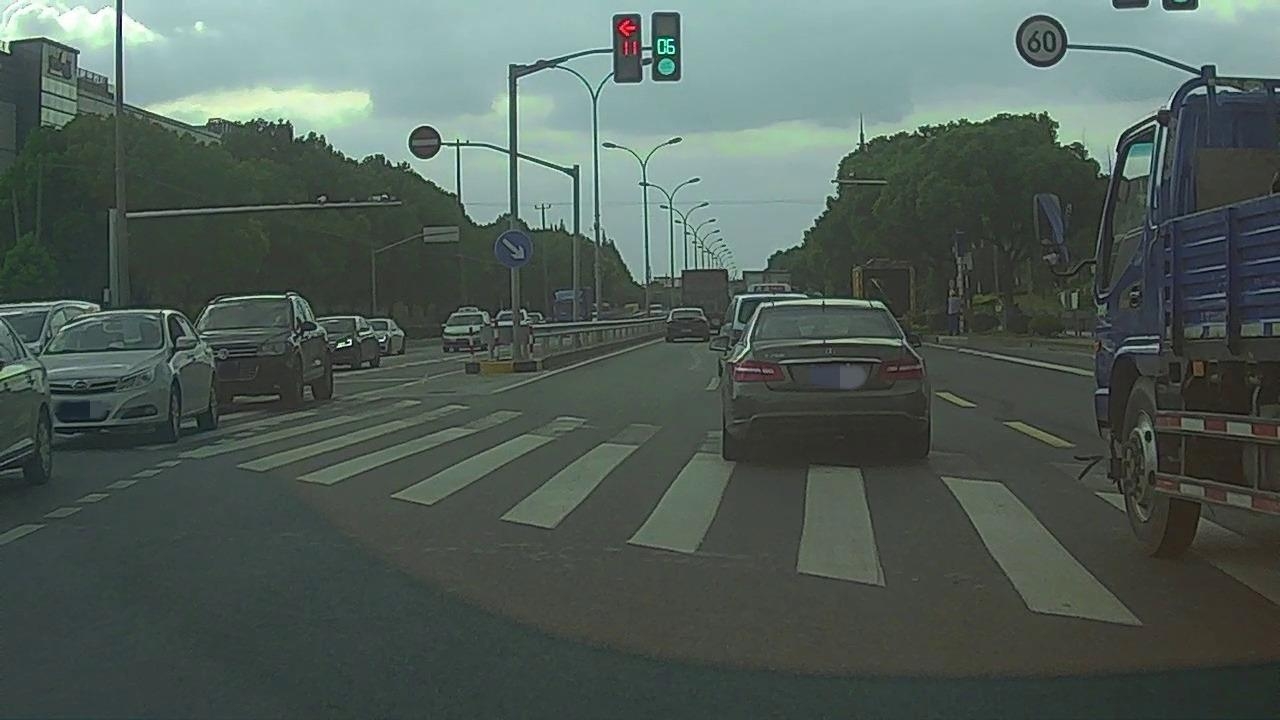traffic_light: (651, 11, 682, 84), (616, 13, 643, 82)
